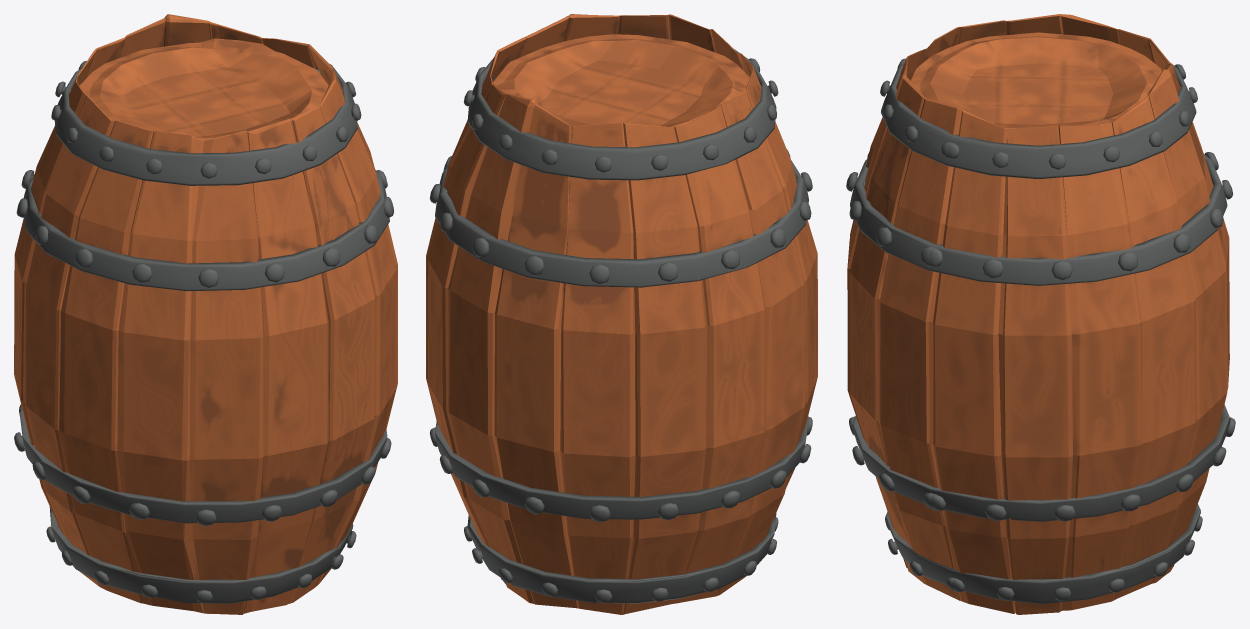
The model's file is barrel.obj.
3 renders of one model, left to right at view 1: azimuth 30°, elevation 25°; view 2: azimuth 150°, elevation 25°; view 3: azimuth 270°, elevation 25°, orthographic.
Parts seen in each view (by area): view 1: metal-low_Cylinder.003; view 2: metal-low_Cylinder.003; view 3: metal-low_Cylinder.003.
Boxes of the visible parts, <box> form: metal-low_Cylinder.003: <box>14,14,397,614</box>; metal-low_Cylinder.003: <box>426,14,817,614</box>; metal-low_Cylinder.003: <box>846,14,1235,614</box>.
Bounding box in the file's own units: 2.05 × 2.94 × 2.06.
